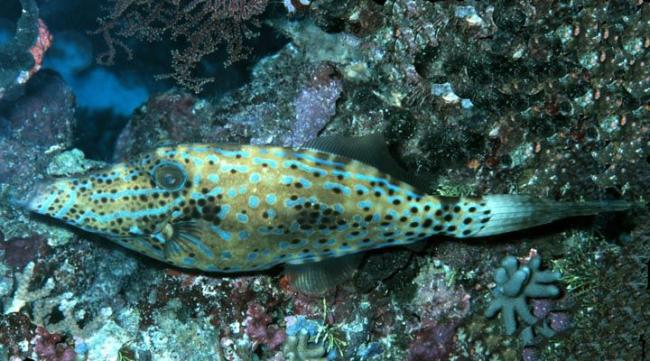fish: (16, 137, 637, 276)
